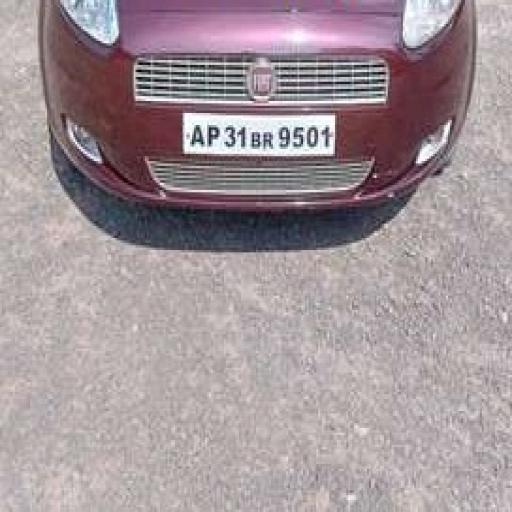license_plate`: (179, 106, 335, 149)
